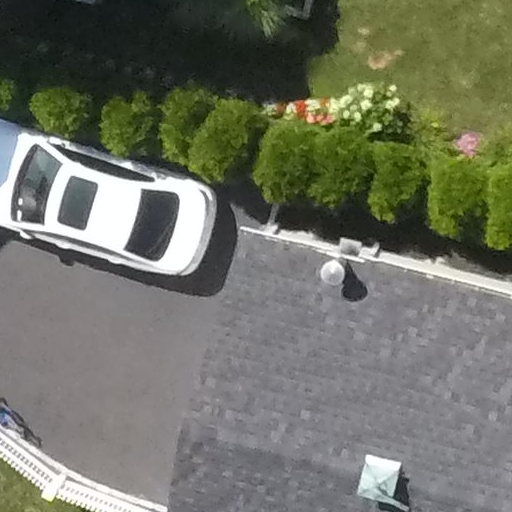car: (1, 112, 238, 297)
